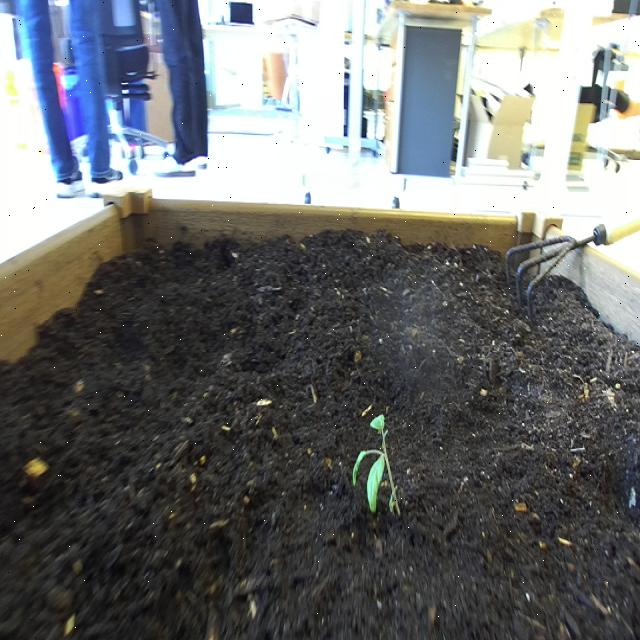Healthy: (346, 405, 418, 538)
